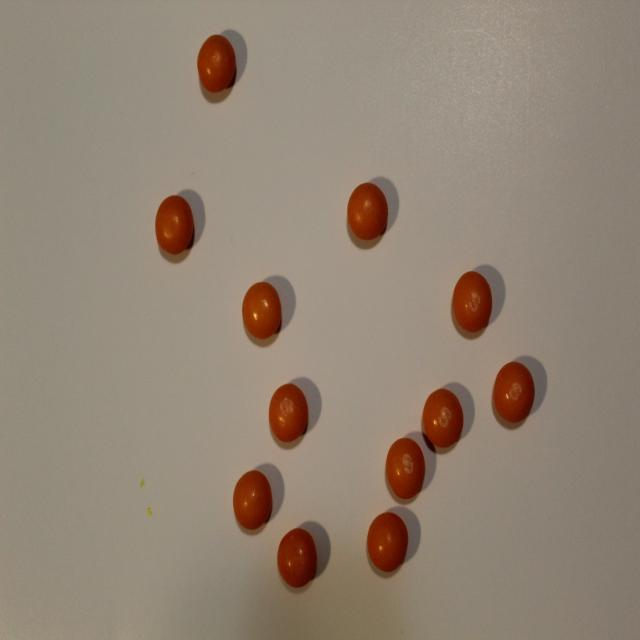smartie: (494, 362, 536, 423), (367, 513, 409, 573), (423, 388, 464, 448), (453, 271, 493, 332), (386, 438, 425, 500), (348, 181, 389, 239), (277, 529, 317, 588), (233, 471, 272, 530), (242, 281, 281, 339), (269, 384, 308, 442), (155, 195, 193, 254), (197, 33, 235, 91)
